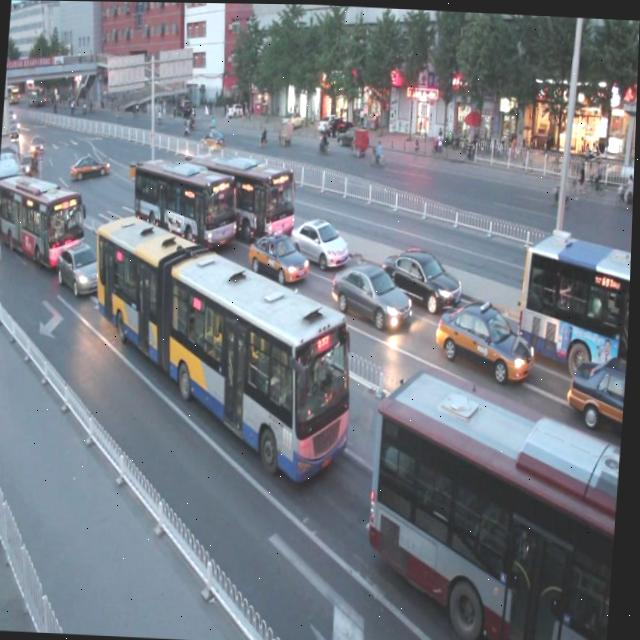car: (433, 300, 538, 394), (328, 259, 412, 337), (382, 247, 465, 318), (566, 347, 629, 419), (245, 227, 310, 290), (287, 213, 350, 276), (57, 241, 108, 296)
van: (80, 209, 364, 487), (365, 365, 627, 640), (515, 231, 633, 371), (128, 151, 241, 260), (185, 146, 300, 248), (0, 167, 88, 262)
